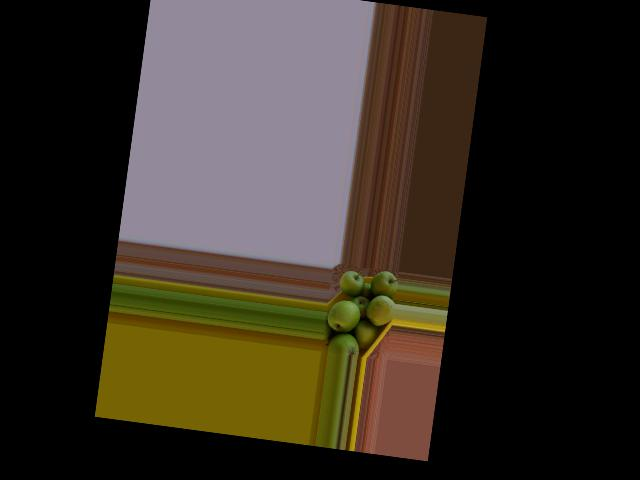apple: (350, 319, 383, 352)
